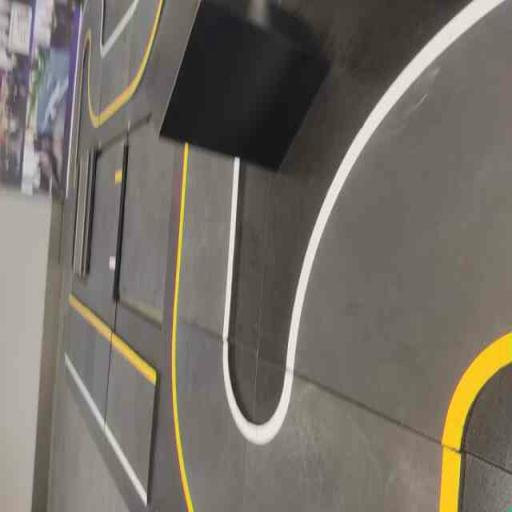left: (292, 33, 509, 446)
